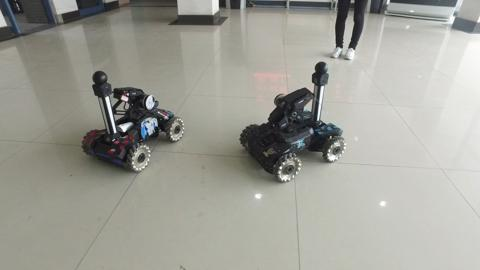chariot: (236, 59, 352, 183), (72, 63, 188, 177)
